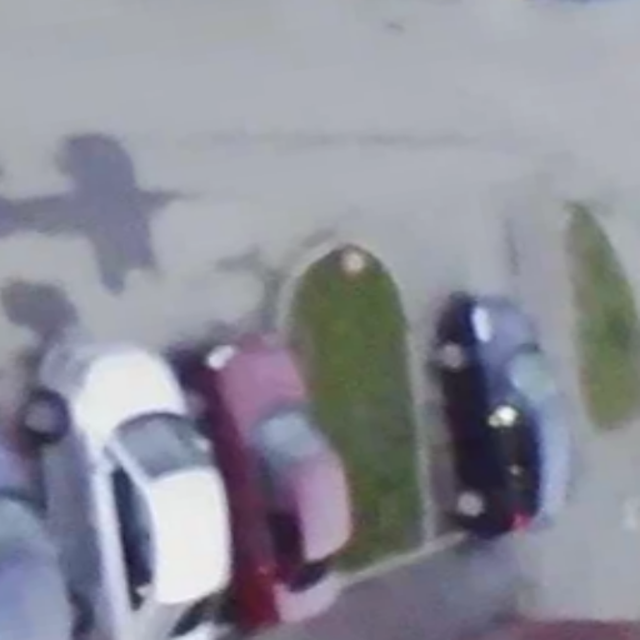car: (28, 338, 229, 640), (188, 334, 353, 622), (439, 298, 567, 537)
